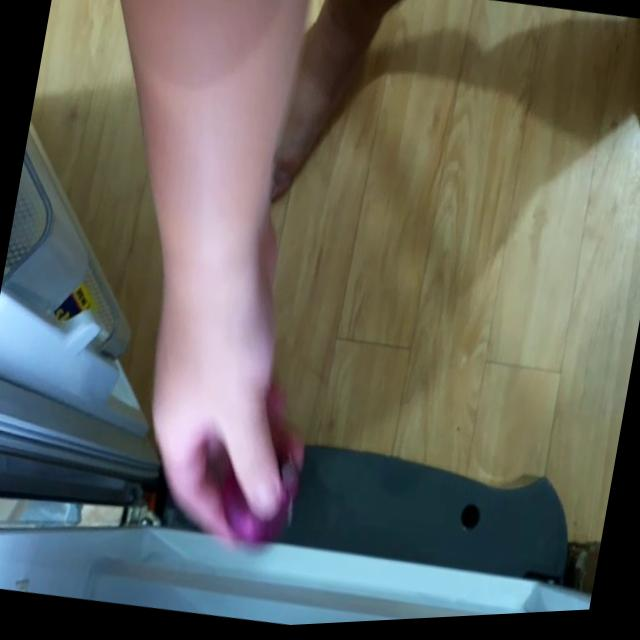onion: (216, 445, 304, 551)
